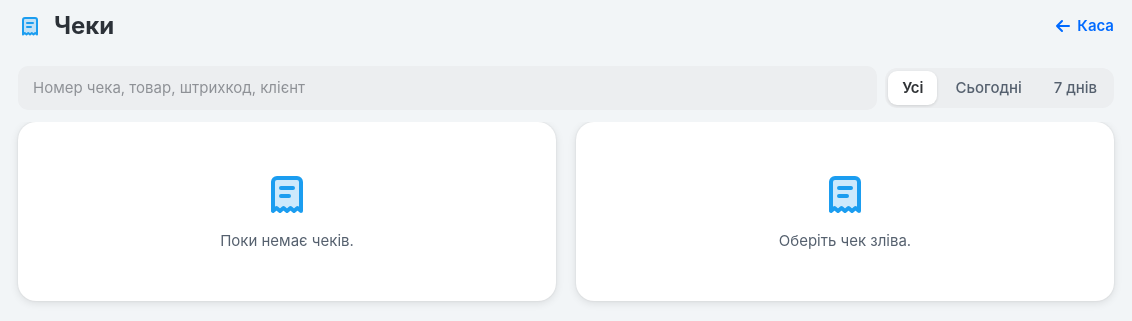
Test: TillReceiptsPage — search › says «Нічого не знайдено» only when something was asked
The image size is (1132, 321).
Expected: the text "Поки немає чеків." is shown, [220, 230, 354, 252]
Type "шарф" into the search field named "Пошук чеків". click: [448, 88]
box: [18, 66, 877, 110]
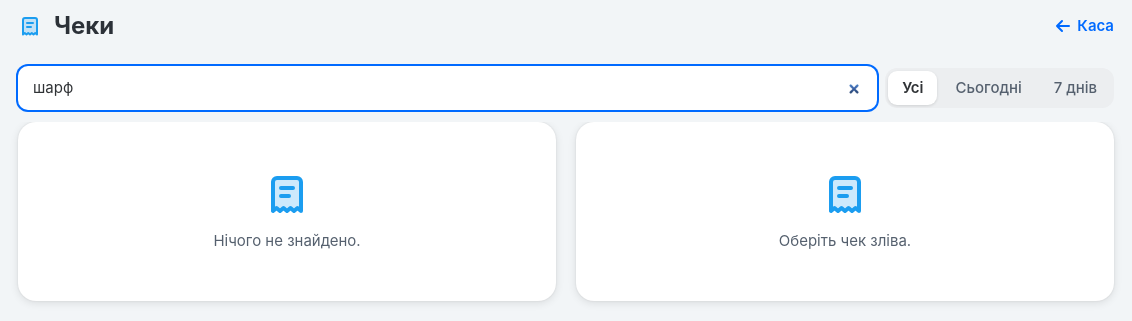
Expected: the text "Нічого не знайдено." is shown, [213, 230, 360, 252]
